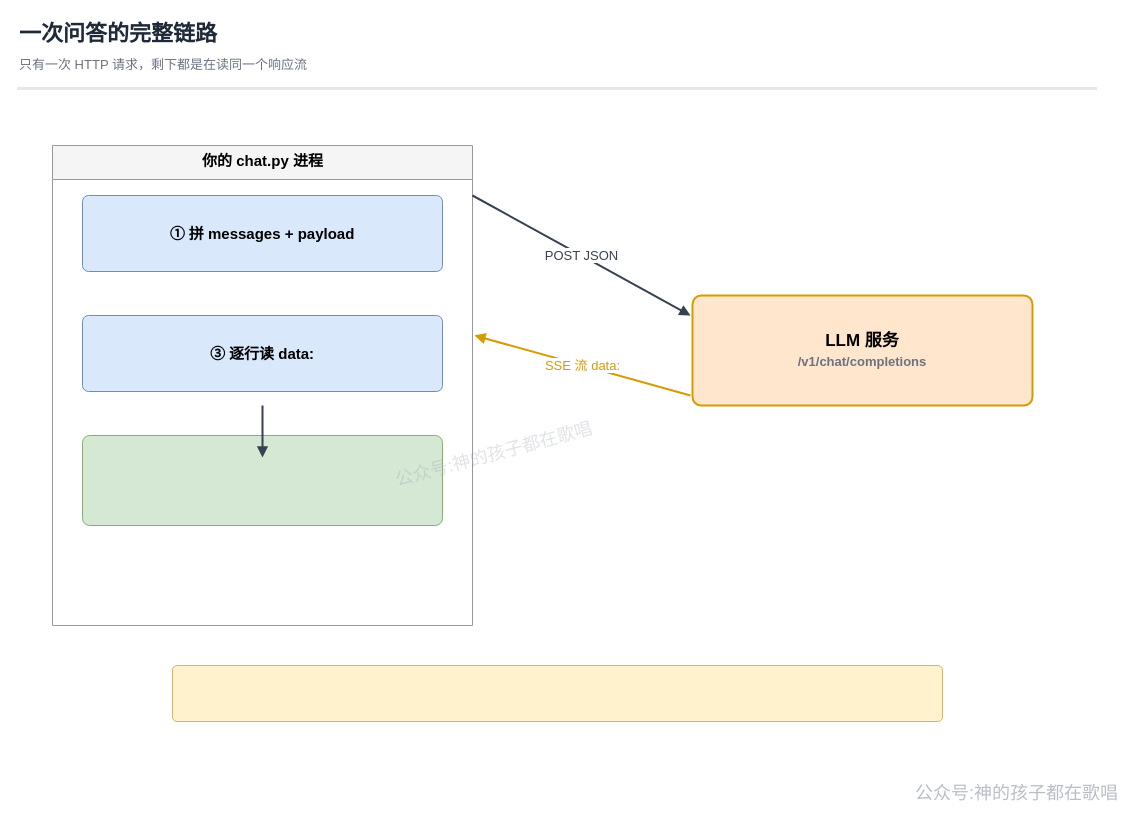
Some shapes in this 1137 by 827 pixel diagram are drawn without their labels. Each missing label, with the centre of its shape:
④ 拼 delta.content 打印到终端: point (262, 480)
流式模式别调 resp.json()，会把整个流缓冲完，等于没开流式: point (557, 693)
